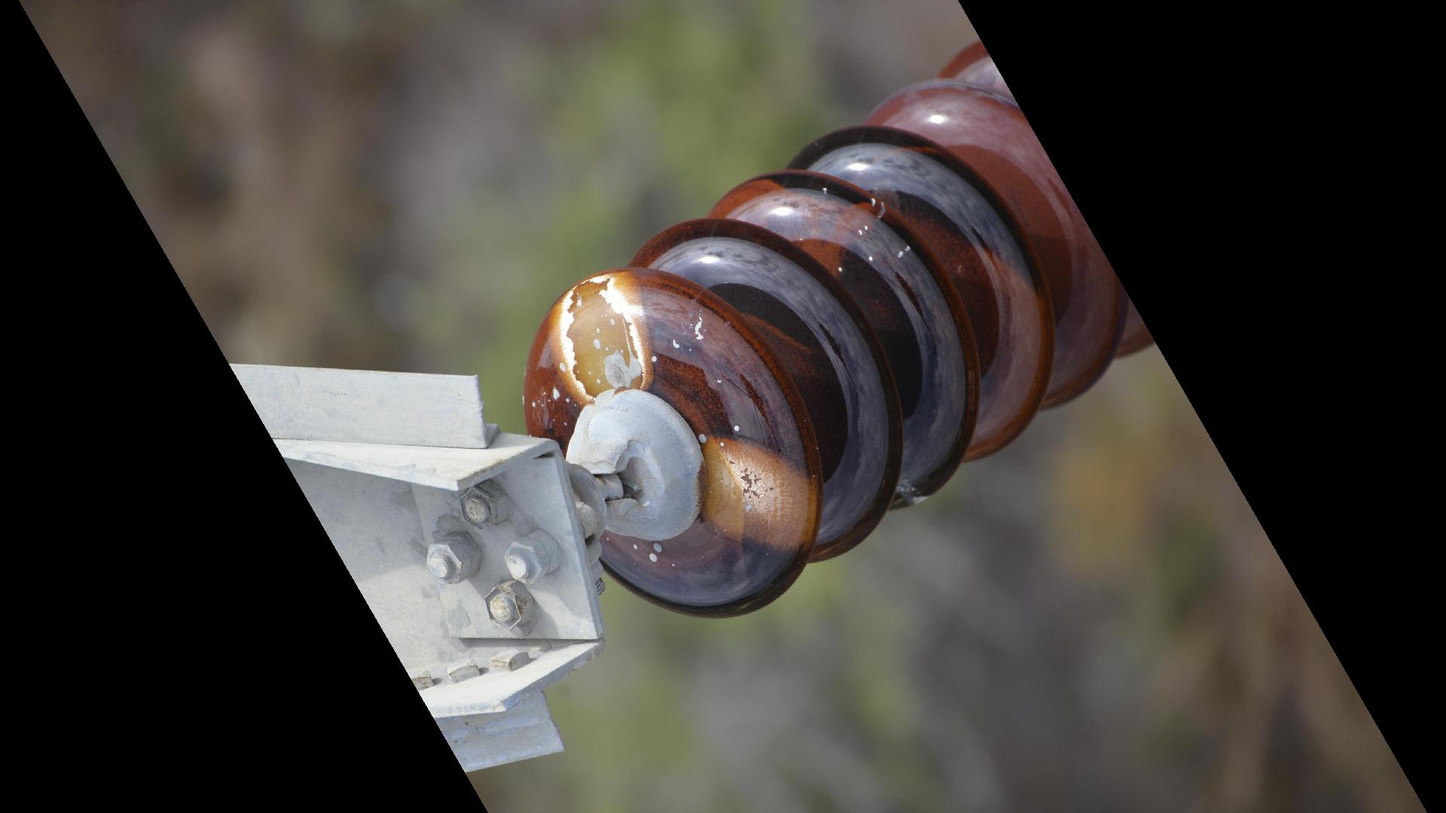insulator: (514, 36, 1160, 628)
insulator_flashover: (697, 431, 825, 555), (541, 269, 658, 403)
